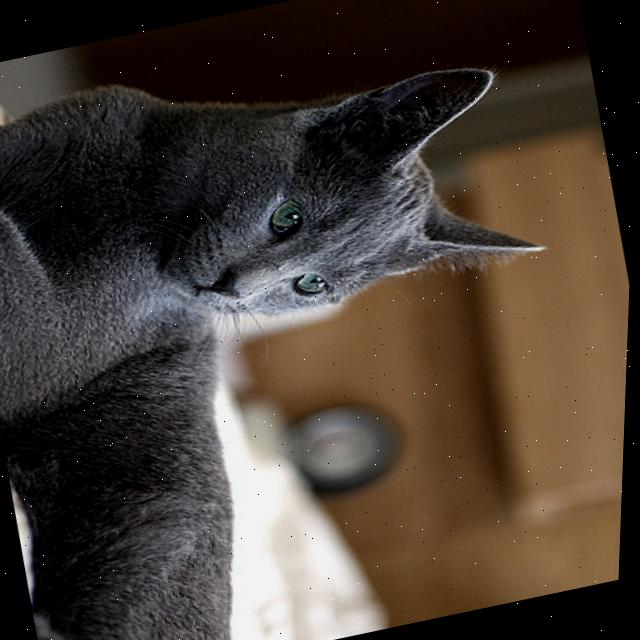Russian Blue: (0, 0, 627, 640)
